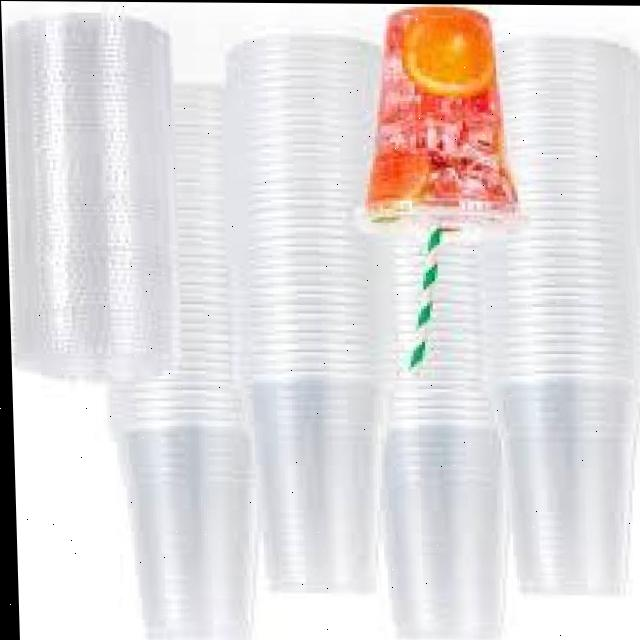cup: (363, 7, 515, 229), (507, 378, 630, 593)
